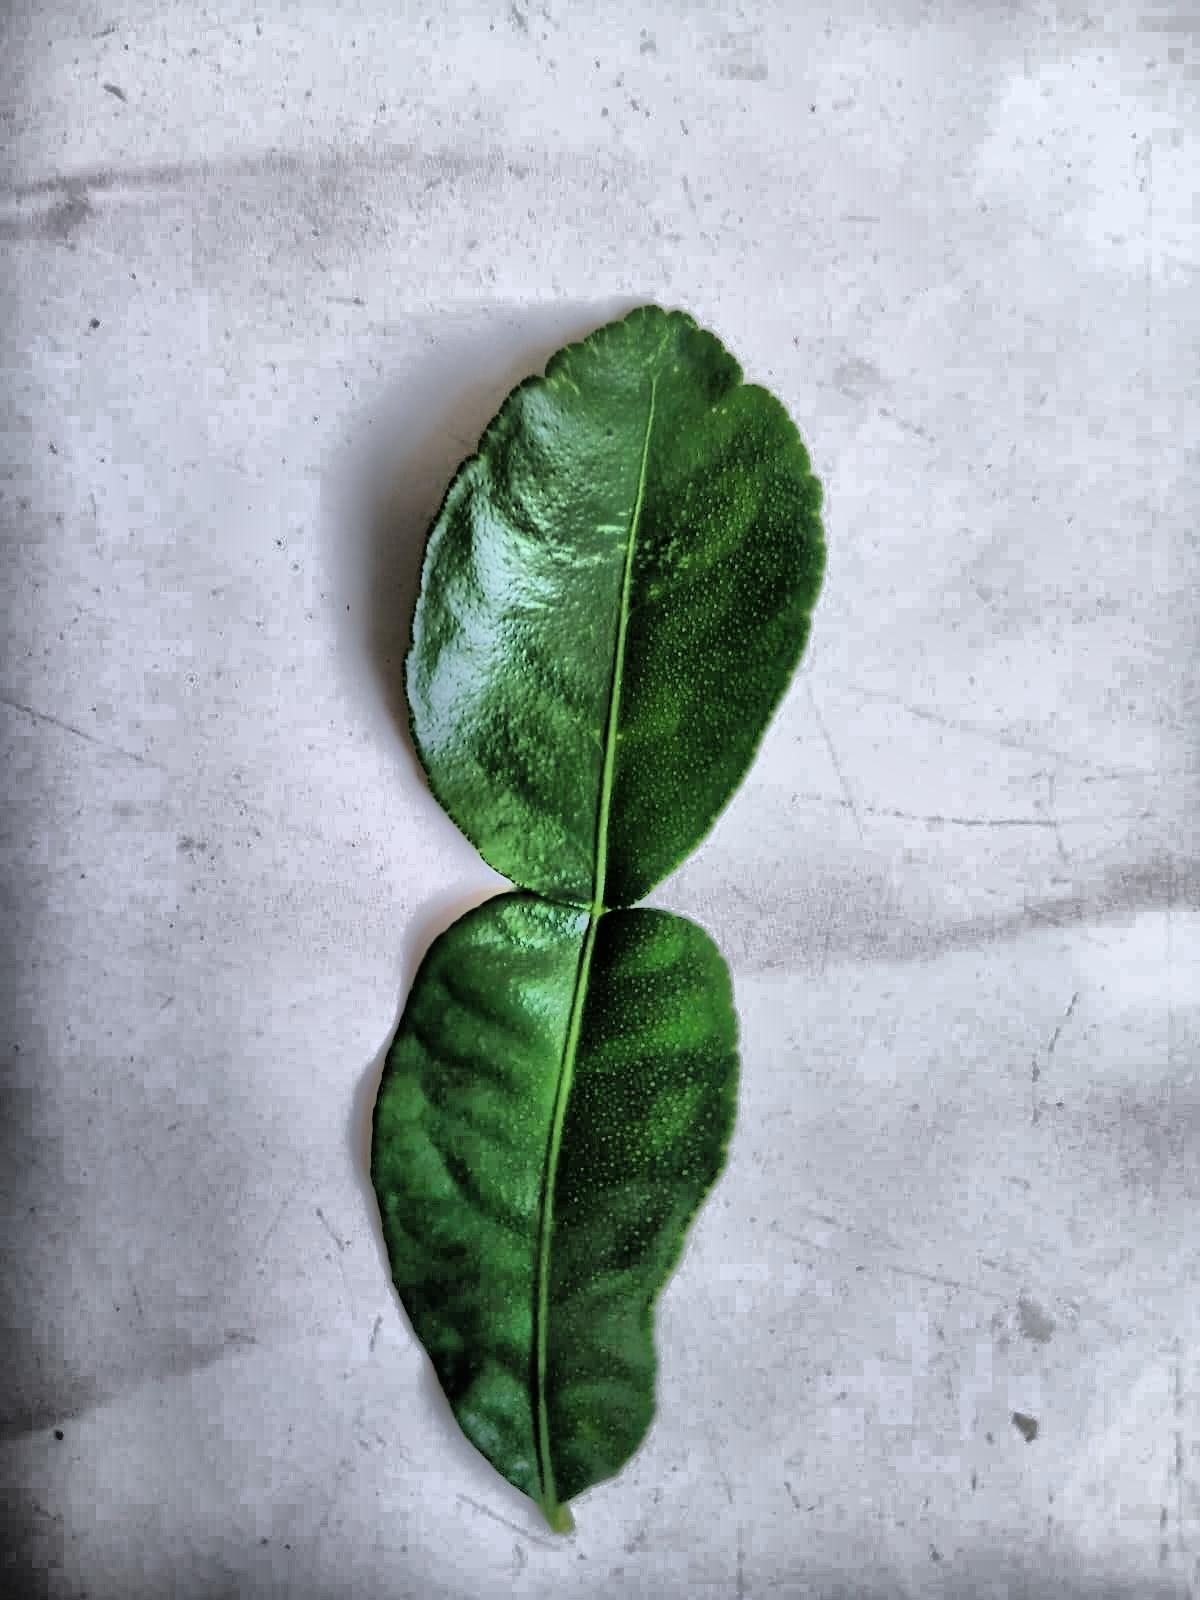daun jeruk: (371, 306, 824, 1529)
